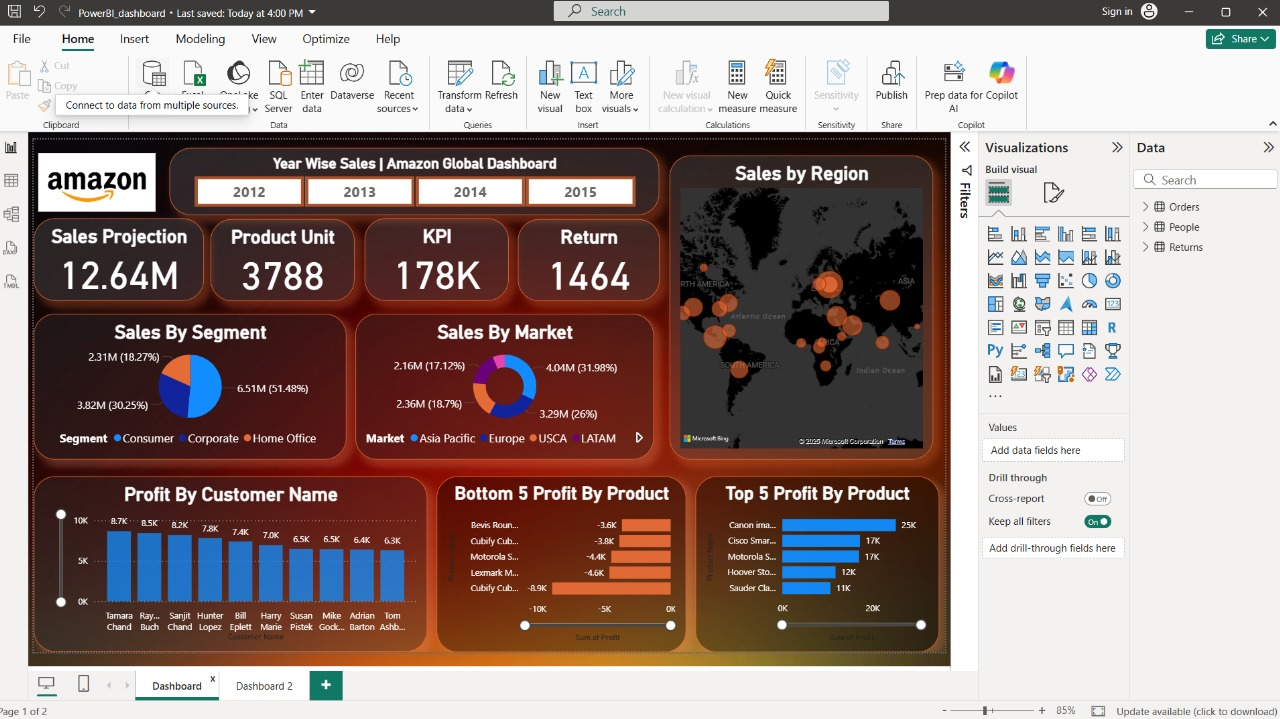

Layout of this report page (visuals, bound fields, positions):
{"tool":"powerbi","page":{"name":"Dashboard","canvas":[1280,720],"ordinal":0},"visuals":[{"type":"image","box":[0,14,177.1,91.8],"z":0},{"type":"slicer","title":"Year Wise Sales | Amazon Global Dashboard","fields":{"Values":["Orders.Year"]},"box":[190.7,11.8,688.1,94.7],"z":1000},{"type":"card","title":"Sales Projection","fields":{"Values":["Sum(Orders.Sales)"]},"box":[0,110.1,236.9,116.1],"z":2000},{"type":"card","title":"Product Unit","fields":{"Values":["Count(Orders.Product Name)"]},"box":[248.7,111.3,202.5,114.9],"z":3000},{"type":"card","title":"KPI","fields":{"Values":["Sum(Orders.Quantity)"]},"box":[464.2,110.1,202.5,116.1],"z":4000},{"type":"card","title":"Return","fields":{"Values":["Count(Orders.Ship Date)"]},"box":[679.8,111.3,199,114.9],"z":5000},{"type":"pieChart","title":"Sales By Segment","fields":{"Category":["Orders.Segment"],"Y":["Sum(Orders.Sales)"]},"box":[0,245.2,439.4,204.9],"z":6000},{"type":"donutChart","title":"Sales By Market","fields":{"Y":["Sum(Orders.Sales)"],"Category":["Orders.Market"]},"box":[451.2,245.2,419.2,204.9],"z":7000},{"type":"clusteredBarChart","title":"Bottom 5 Profit By Product","fields":{"Y":["Sum(Orders.Profit)"],"Category":["Orders.Product Name"]},"box":[566.1,472.5,350.6,247.5],"z":8000},{"type":"clusteredBarChart","title":"Top 5 Profit By Product","fields":{"Y":["Sum(Orders.Profit)"],"Category":["Orders.Product Name"]},"box":[929.7,472.6,342.2,246.8],"z":9000},{"type":"columnChart","title":"Profit By Customer Name","fields":{"Category":["Orders.Customer Name"],"Y":["Sum(Orders.Profit)"]},"box":[0,472.5,553.1,246.3],"z":10000},{"type":"map","title":"Sales by Region","fields":{"Category":["Orders.Region"],"Size":["Sum(Orders.Sales)"]},"box":[893,22.5,370.7,427.5],"z":11000}]}

Visuals, with their boxes on the page's 1280x720 design canvas (x1, y1, x2, y2). These are canvas units, not pixel positions in the 1280x719 screenshot, which may show the page scaled, cropped or inside an application window:
image: (x1=0, y1=14, x2=177, y2=106)
"Year Wise Sales | Amazon Global Dashboard" slicer: (x1=191, y1=12, x2=879, y2=106)
"Sales Projection" card: (x1=0, y1=110, x2=237, y2=226)
"Product Unit" card: (x1=249, y1=111, x2=451, y2=226)
"KPI" card: (x1=464, y1=110, x2=667, y2=226)
"Return" card: (x1=680, y1=111, x2=879, y2=226)
"Sales By Segment" pieChart: (x1=0, y1=245, x2=439, y2=450)
"Sales By Market" donutChart: (x1=451, y1=245, x2=870, y2=450)
"Bottom 5 Profit By Product" clusteredBarChart: (x1=566, y1=472, x2=917, y2=720)
"Top 5 Profit By Product" clusteredBarChart: (x1=930, y1=473, x2=1272, y2=719)
"Profit By Customer Name" columnChart: (x1=0, y1=472, x2=553, y2=719)
"Sales by Region" map: (x1=893, y1=22, x2=1264, y2=450)
